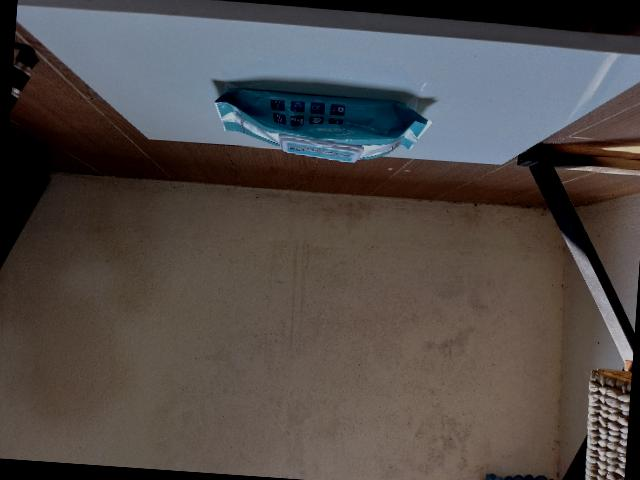Let-green_alcohol_wipes: (213, 87, 431, 161)
